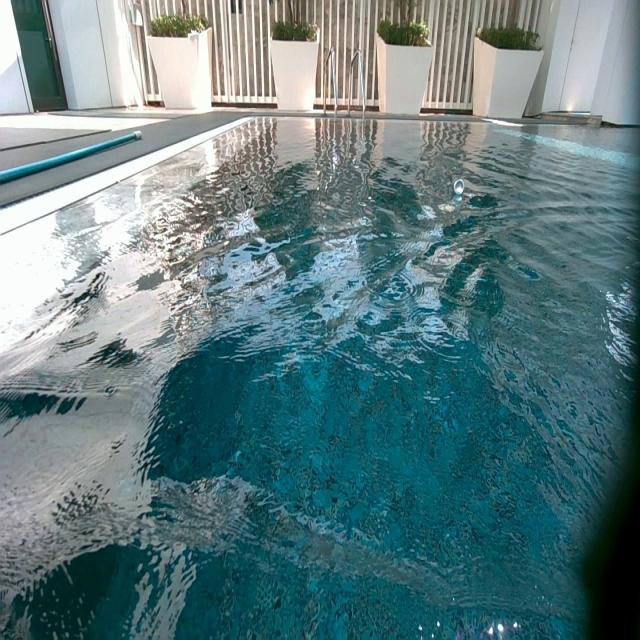Cans: (453, 179, 465, 194)
